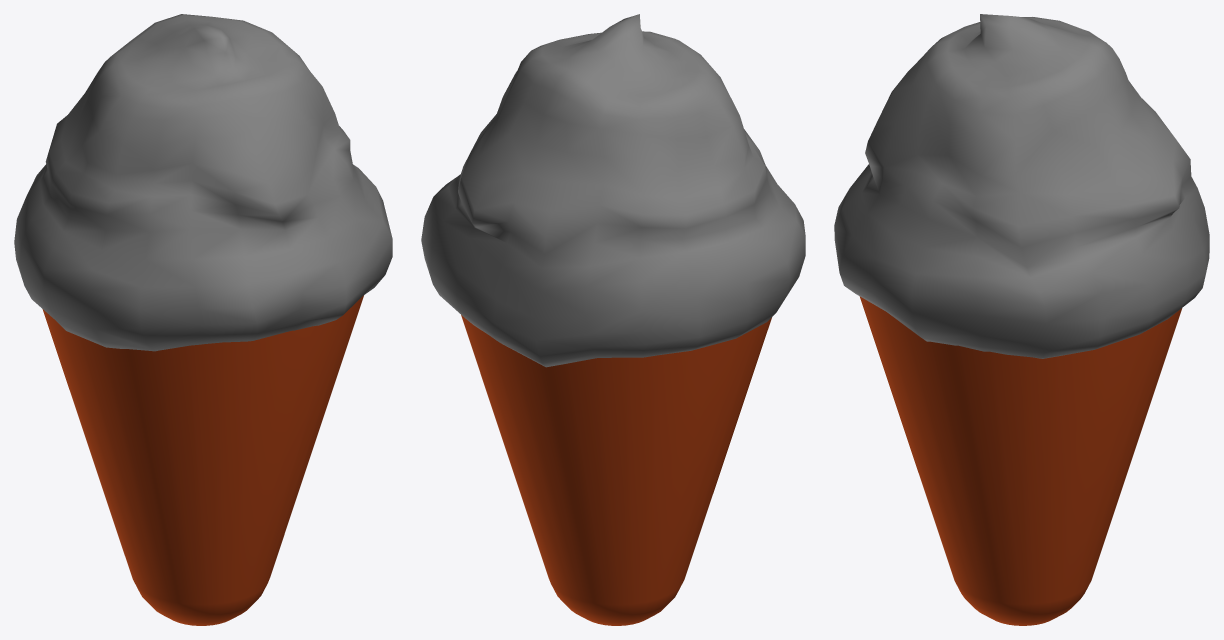
The model's file is Dondurma.FBX.
3 views of the same model, side by side, from view 1: azimuth 30°, elevation 25°; view 2: azimuth 150°, elevation 25°; view 3: azimuth 270°, elevation 25° (orthographic). The views are drawn at different scales.
Visible parts, largest first — view 1: Donudurma; view 2: Donudurma; view 3: Donudurma.
Part boxes in pixels (x1,y1,x2,y2): Donudurma: (14, 14, 392, 625); Donudurma: (421, 14, 805, 625); Donudurma: (834, 14, 1209, 625).
Bounding box in the file's own units: 197 × 332 × 187.
